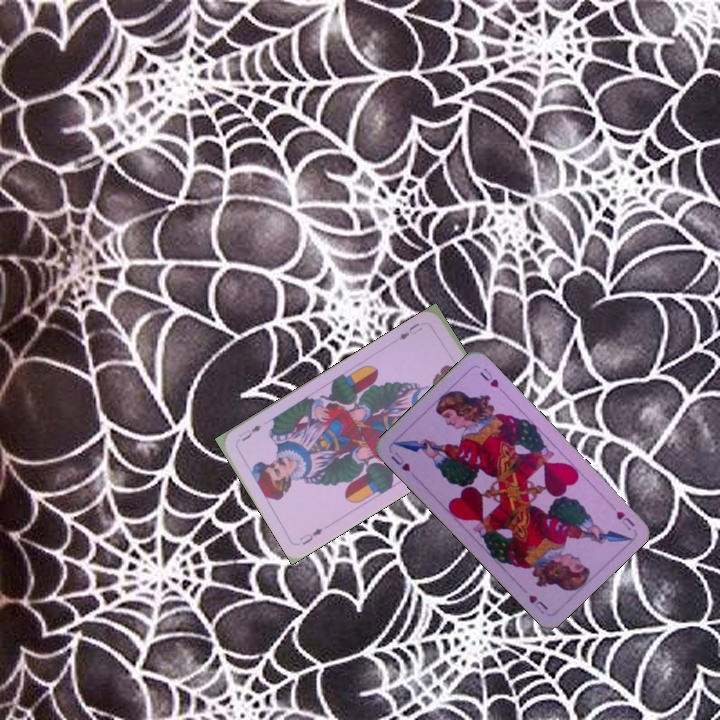EU: (395, 319, 425, 343), (295, 524, 325, 548)
HU: (387, 448, 413, 474), (612, 507, 637, 533)
